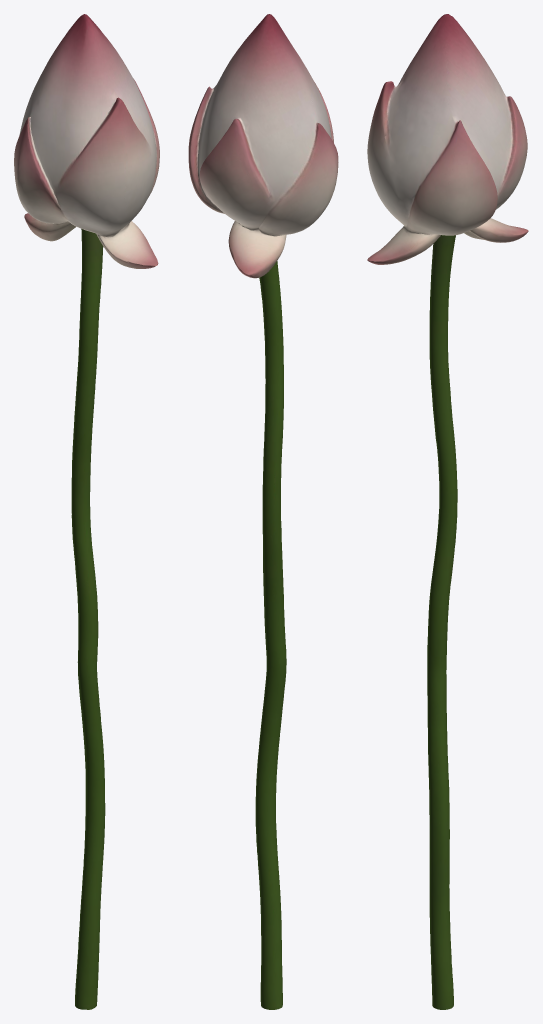
The model's file is lotus-bud.glb.
3 views of the same model, side by side, from view 1: azimuth 30°, elevation 25°; view 2: azimuth 150°, elevation 25°; view 3: azimuth 270°, elevation 25° (orthographic).
Visible parts, largest first — view 1: lotus-bud; view 2: lotus-bud; view 3: lotus-bud.
Part boxes in pixels (x1,y1,x2,y2): lotus-bud: (14, 14, 159, 1009); lotus-bud: (188, 14, 338, 1009); lotus-bud: (367, 14, 528, 1009).
Size of the model in its own units: 0.2414 by 1.65 by 0.243.
1 material, 1 textured.
